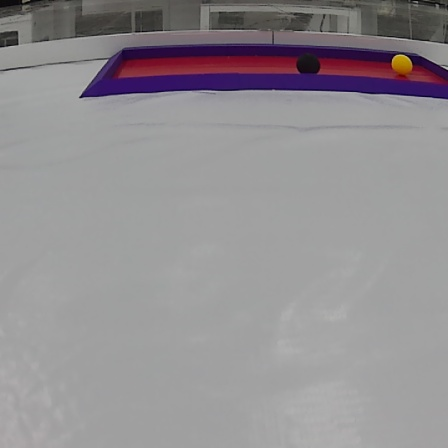black: (298, 54, 323, 75)
red_aim: (78, 40, 448, 102)
yellow: (388, 52, 420, 77)
